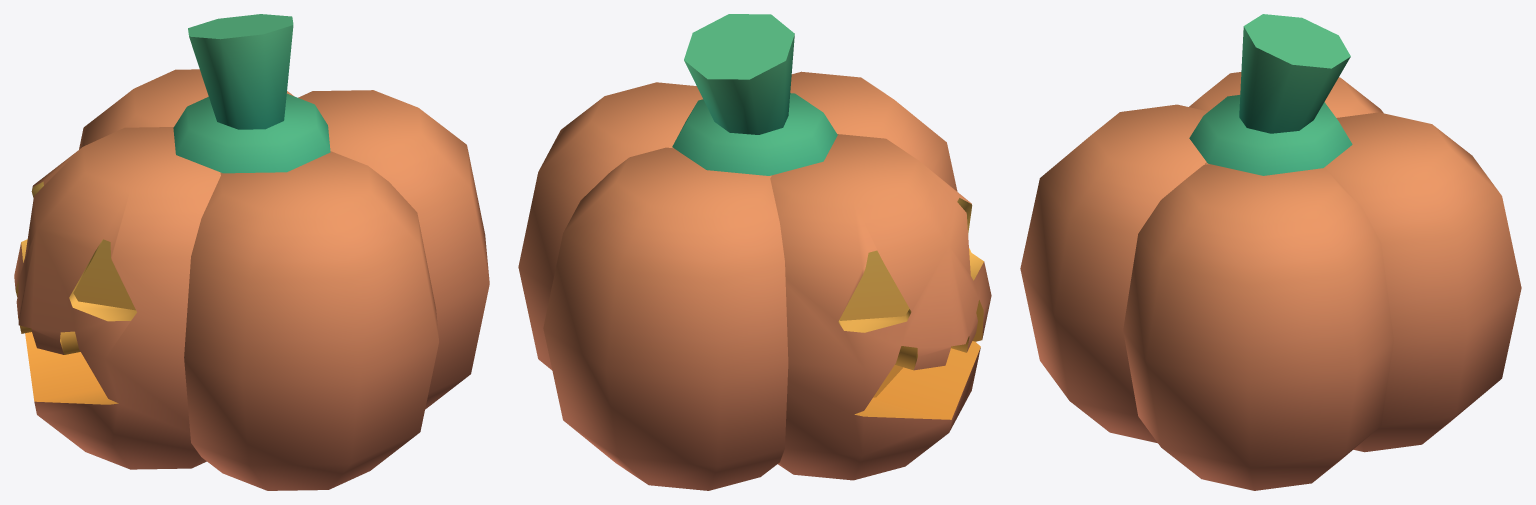
Rendered from pumpkin-carved.001_lev3.glb.
The picture shows the model from 3 angles, left to right: view 1: azimuth 30°, elevation 25°; view 2: azimuth 150°, elevation 25°; view 3: azimuth 270°, elevation 25°; orthographic projection. The views are drawn at different scales.
Parts seen in each view (by area): view 1: pumpkin-carved.001_lev3; view 2: pumpkin-carved.001_lev3; view 3: pumpkin-carved.001_lev3.
Part boxes in pixels (x1=…): pumpkin-carved.001_lev3: x1=14, y1=14, x2=489, y2=490; pumpkin-carved.001_lev3: x1=518, y1=14, x2=991, y2=490; pumpkin-carved.001_lev3: x1=1020, y1=14, x2=1521, y2=490.
Bounding box in the file's own units: 7.17 × 6.13 × 7.17.
1 material, 1 textured.
